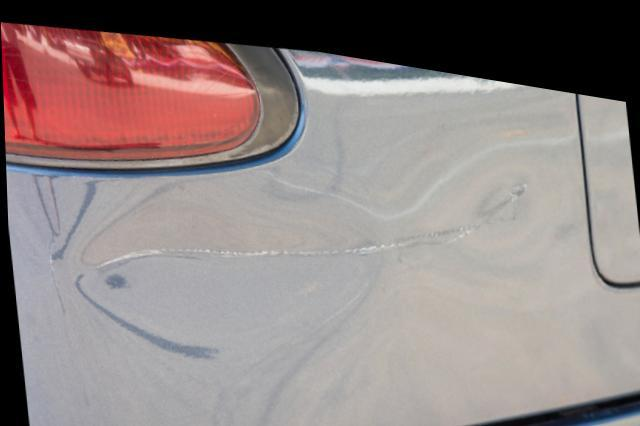dent: (79, 138, 561, 362)
